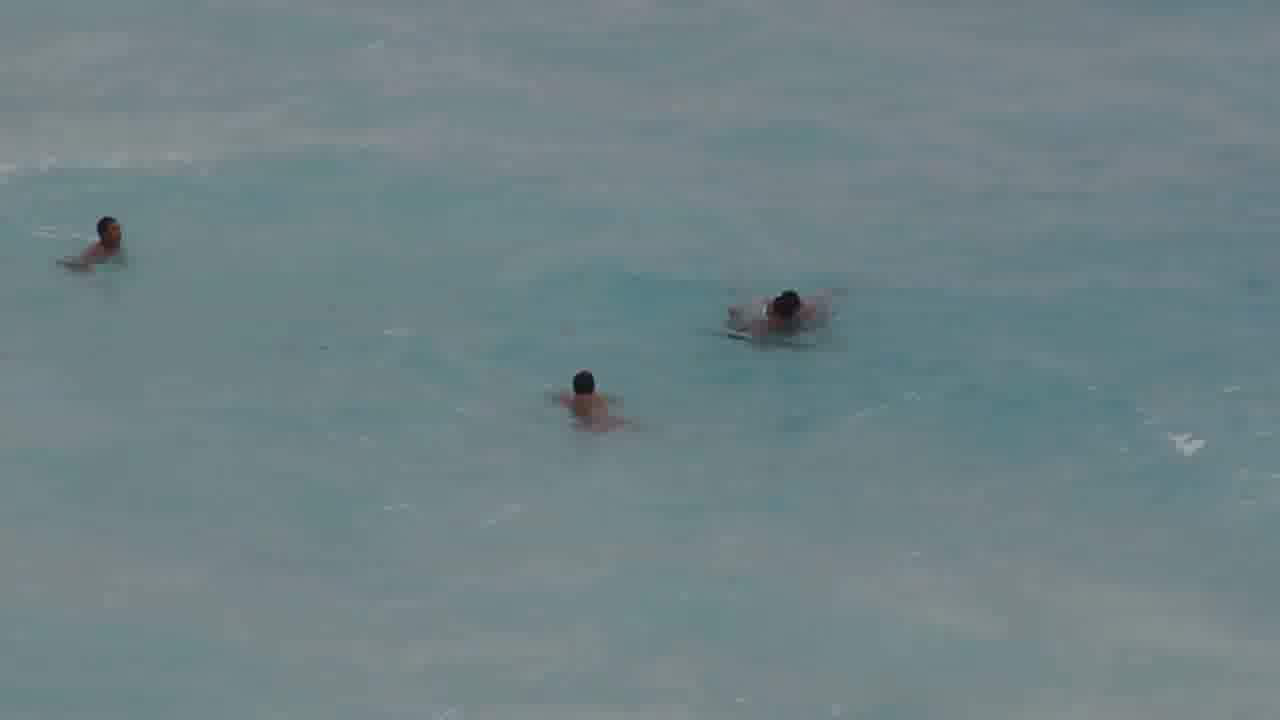swimmer: (723, 283, 844, 342), (542, 367, 629, 435), (75, 211, 135, 272)
